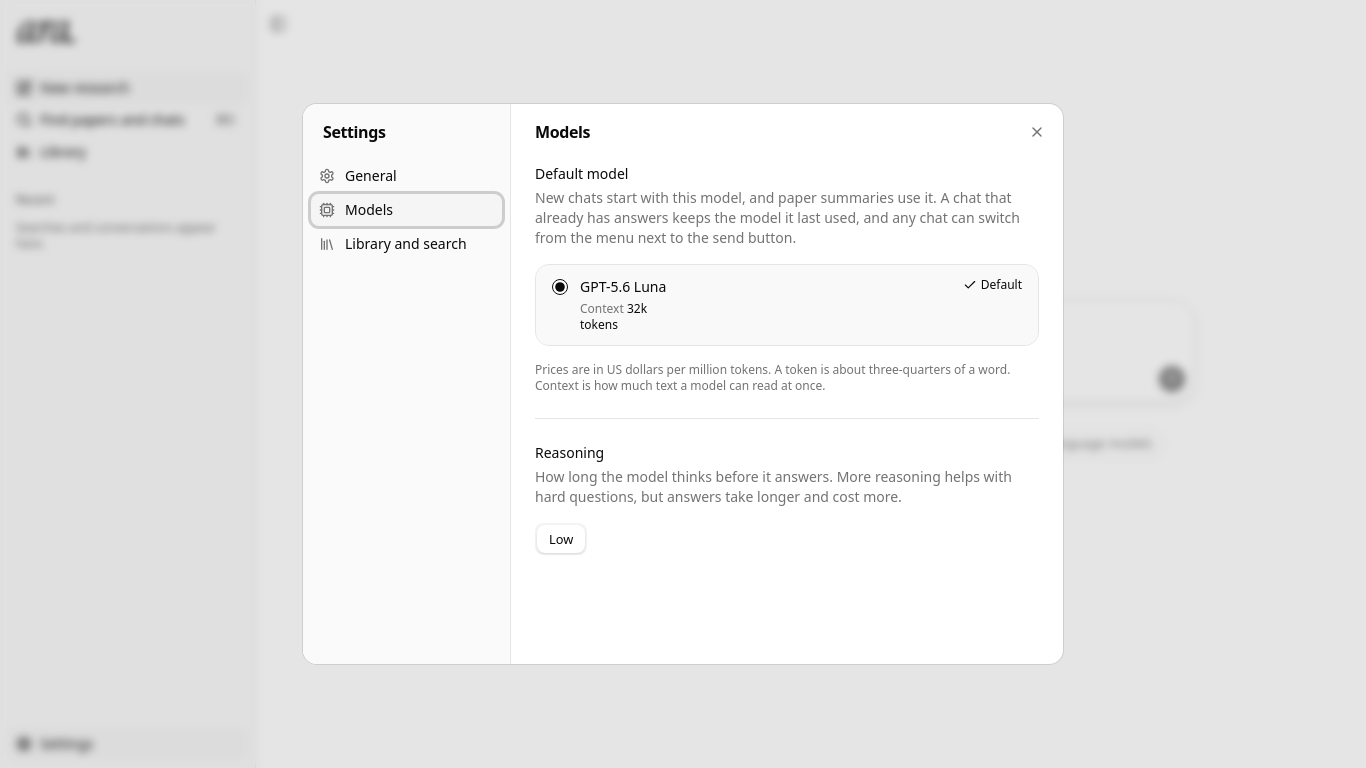
Test: Given open models off, When Settings opens, Then no local model, Open models category or local search option appears
expect the radio button labelled "GPT-5.6 Luna" is shown: met, box [552,279,568,295]
Click the tab "Library and search": (406, 244) [311,228,502,260]
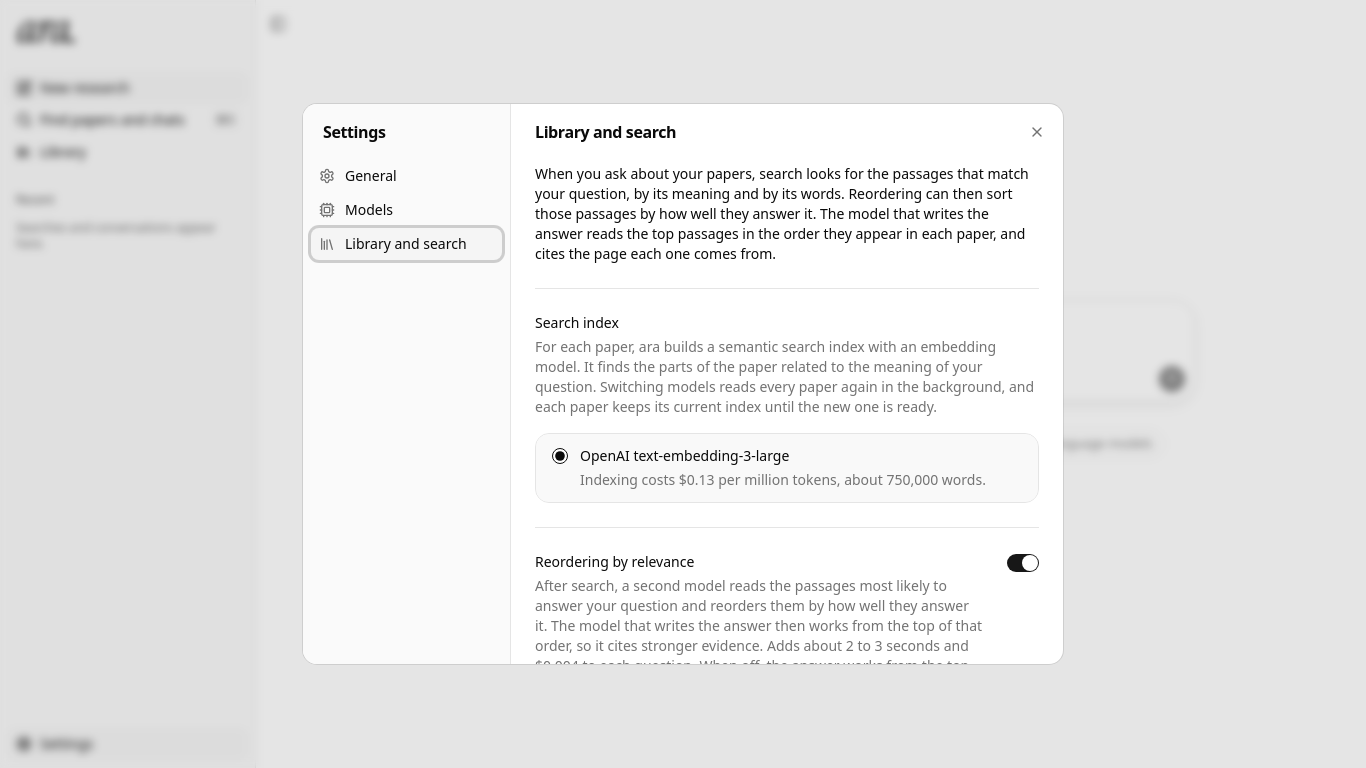
expect the radio button labelled "OpenAI text-embedding-3-large" is checked: met, box [552,448,568,464]
